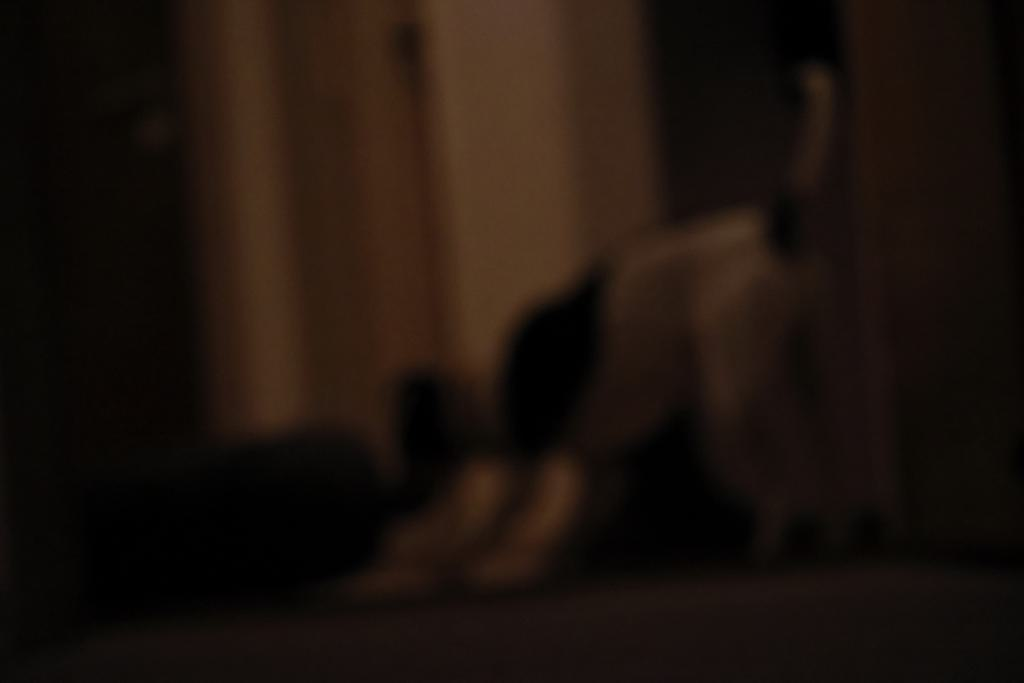Dog: (357, 57, 863, 613)
